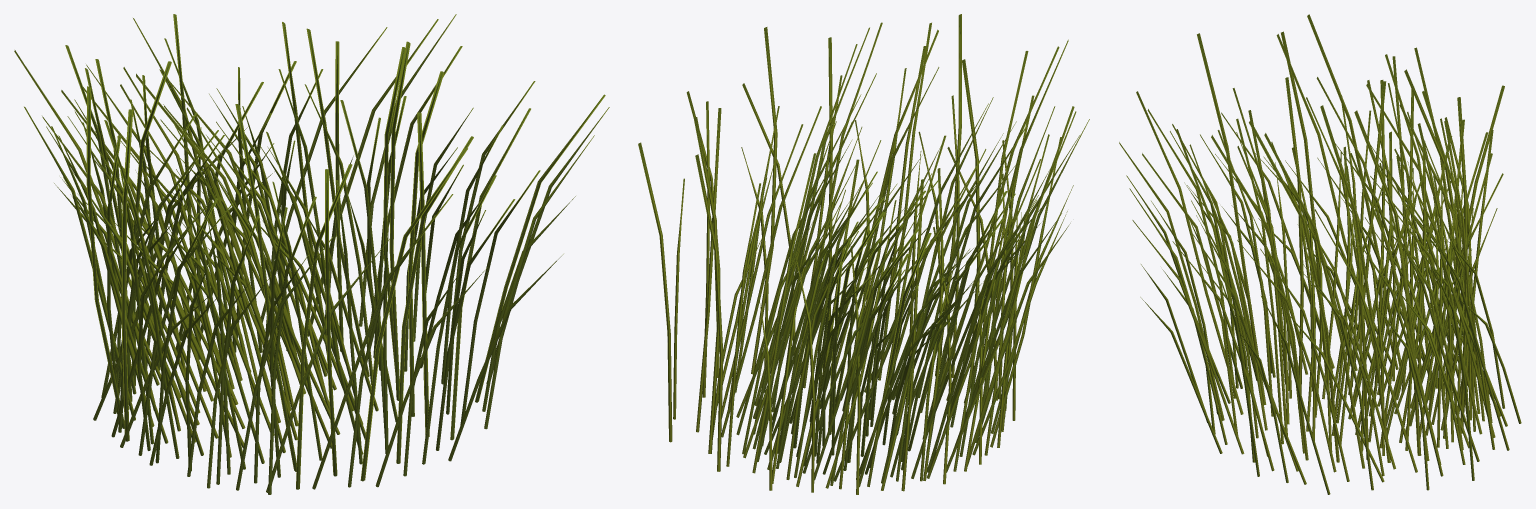
File: grass4.obj
3 renders of one model, left to right at view 1: azimuth 30°, elevation 25°; view 2: azimuth 150°, elevation 25°; view 3: azimuth 270°, elevation 25°, orthographic. The views are drawn at different scales.
Visible parts, largest first — view 1: tree; view 2: tree; view 3: tree.
Part boxes in pixels (x1=…): tree: x1=14, y1=14, x2=609, y2=494; tree: x1=638, y1=14, x2=1089, y2=494; tree: x1=1119, y1=14, x2=1521, y2=494.
Bounding box in the file's own units: 138 × 111 × 122.
Materials: 1 (1 with a texture image).
